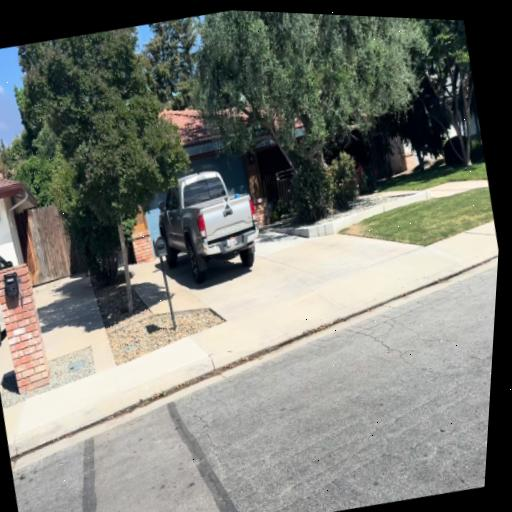target1: (222, 196, 232, 209)
